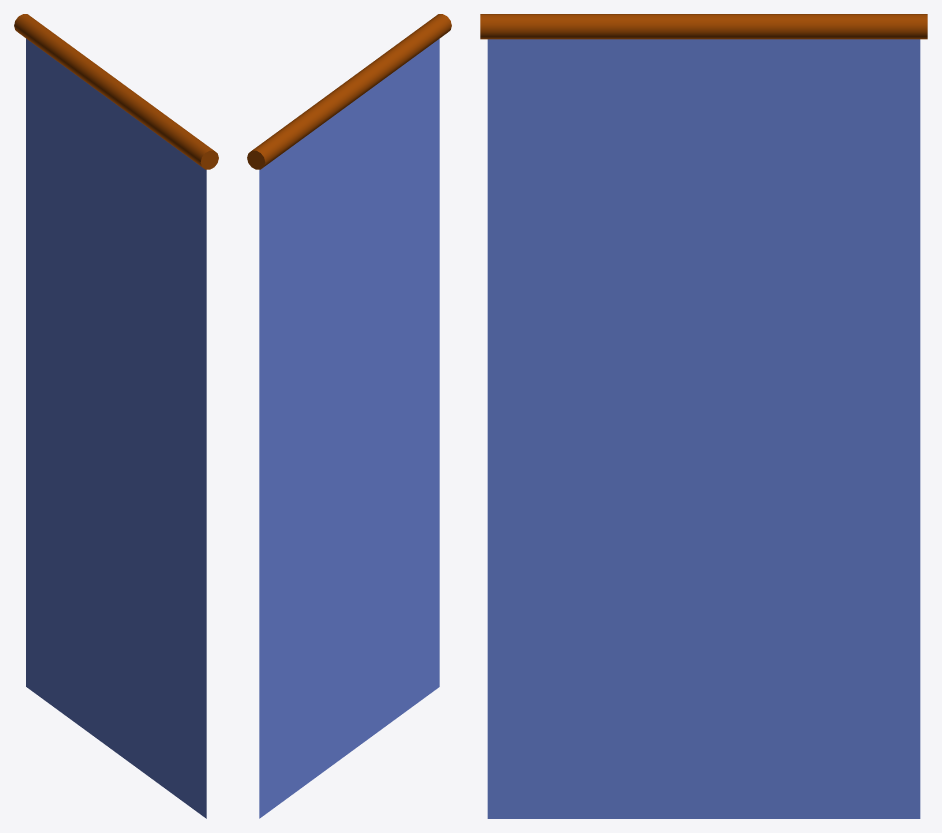
File: Banner.fbx
The picture shows the model from 3 angles, left to right: view 1: azimuth 30°, elevation 25°; view 2: azimuth 150°, elevation 25°; view 3: azimuth 270°, elevation 25°; orthographic projection. The views are drawn at different scales.
Visible parts, largest first — view 1: Flag_Flag, Flag_Pole; view 2: Flag_Flag, Flag_Pole; view 3: Flag_Flag, Flag_Pole.
Part boxes in pixels (<box>): Flag_Flag: <box>26,38,206,818</box>; Flag_Pole: <box>14,14,218,169</box>; Flag_Flag: <box>259,39,439,818</box>; Flag_Pole: <box>247,14,451,169</box>; Flag_Flag: <box>487,39,920,818</box>; Flag_Pole: <box>480,14,927,39</box>.
Size of the model in its own units: 5.19 by 182 by 91.79.
